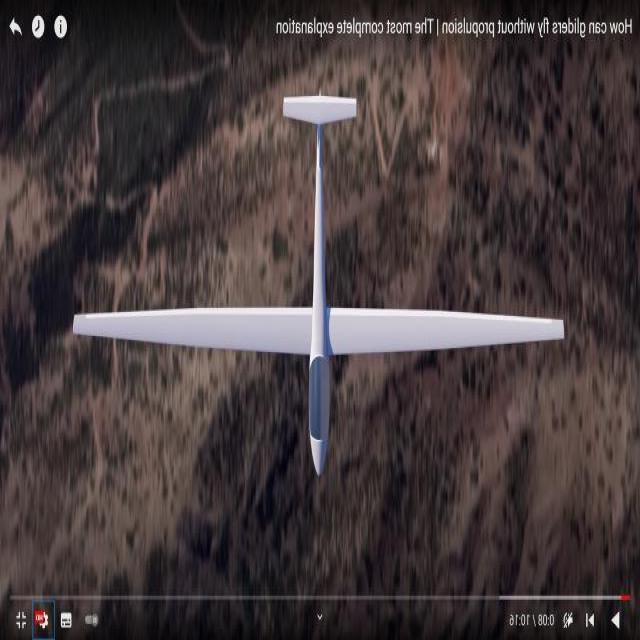UAV: (72, 113, 574, 460)
